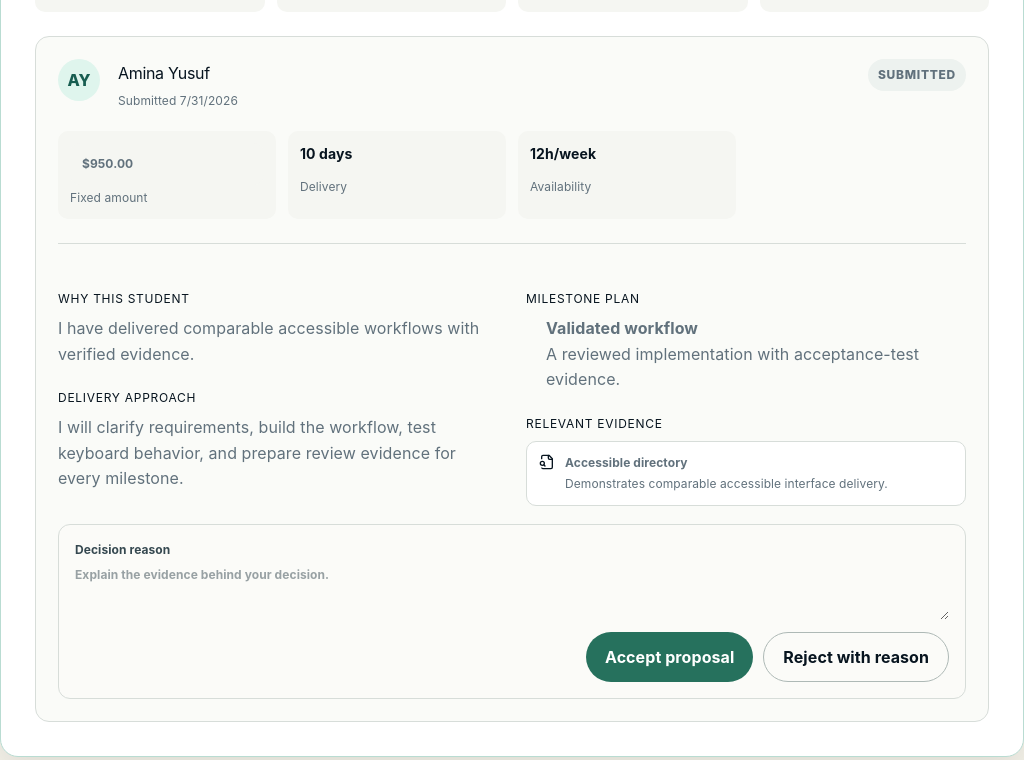
Test: EmployerTalentWorkspace › compares student evidence and records an employer acceptance reason
(page scrolled)
Expected: the heading "Amina Yusuf" is shown, x1=118 y1=63 x2=210 y2=83
Expected: the text "Accessible directory" is shown, x1=565 y1=455 x2=688 y2=470
In the text box labelled "Decision reason": {"x": 512, "y": 593} x1=75 y1=566 x2=949 y2=620, type "The evidence and milestone plan best match the published requirements."
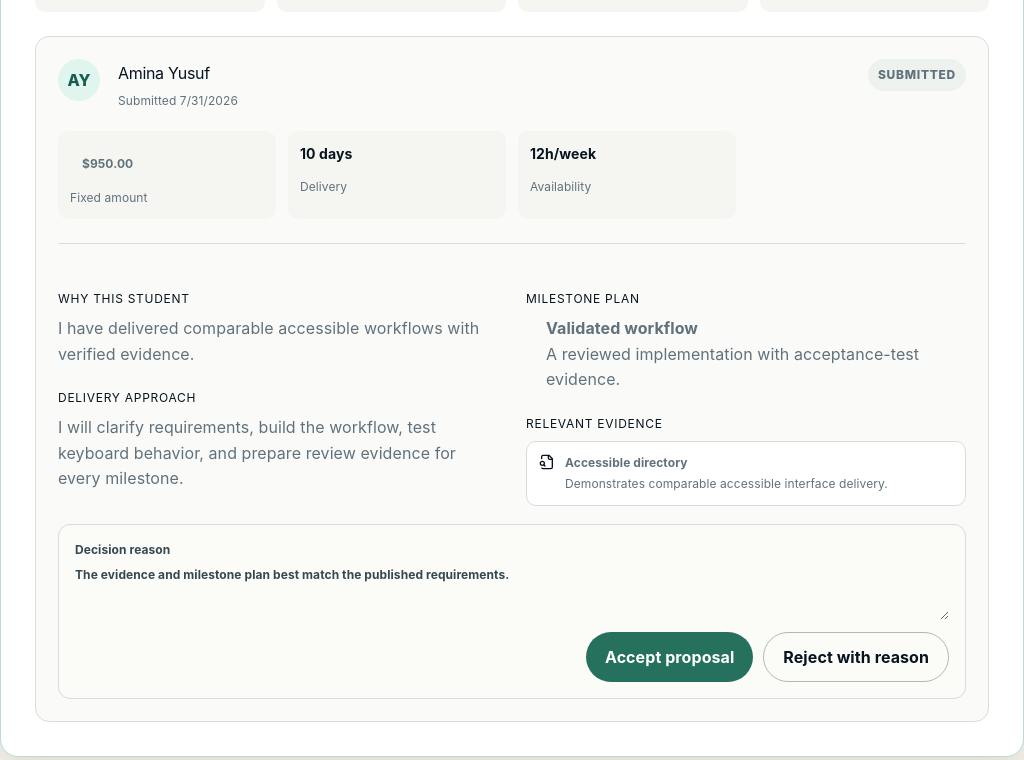
Click the button "Accept proposal": {"x": 670, "y": 657} x1=586 y1=632 x2=753 y2=682
(page scrolled)
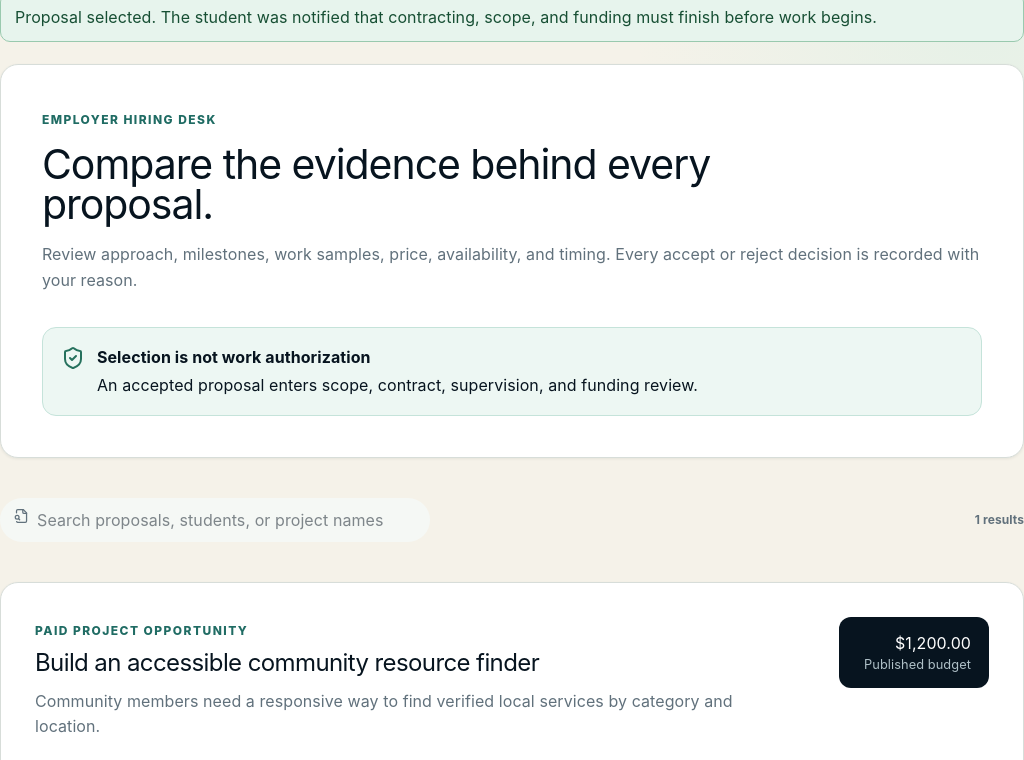
Expected: the text "Proposal selected. The student was notified" is shown, x1=15 y1=7 x2=877 y2=27
